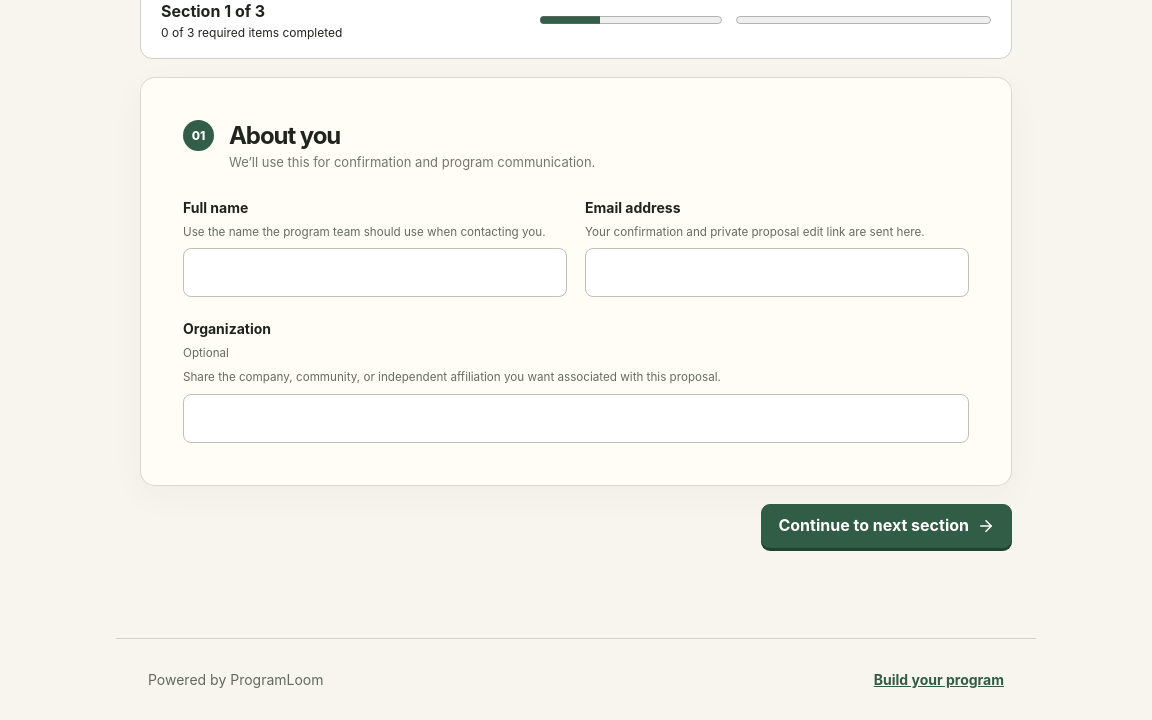
public CFP section progression › blocks the next section until current required values pass server-equivalent validation
The width and height of the screenshot is (1152, 720).
(page scrolled)
Expected: the heading "About you" is shown, x1=229 y1=121 x2=340 y2=150
Expected: the text "Section 1 of 3" is shown, x1=161 y1=1 x2=265 y2=21
Click the button "Continue to next section" at [887, 526], box x1=761 y1=504 x2=1012 y2=548
(page scrolled)
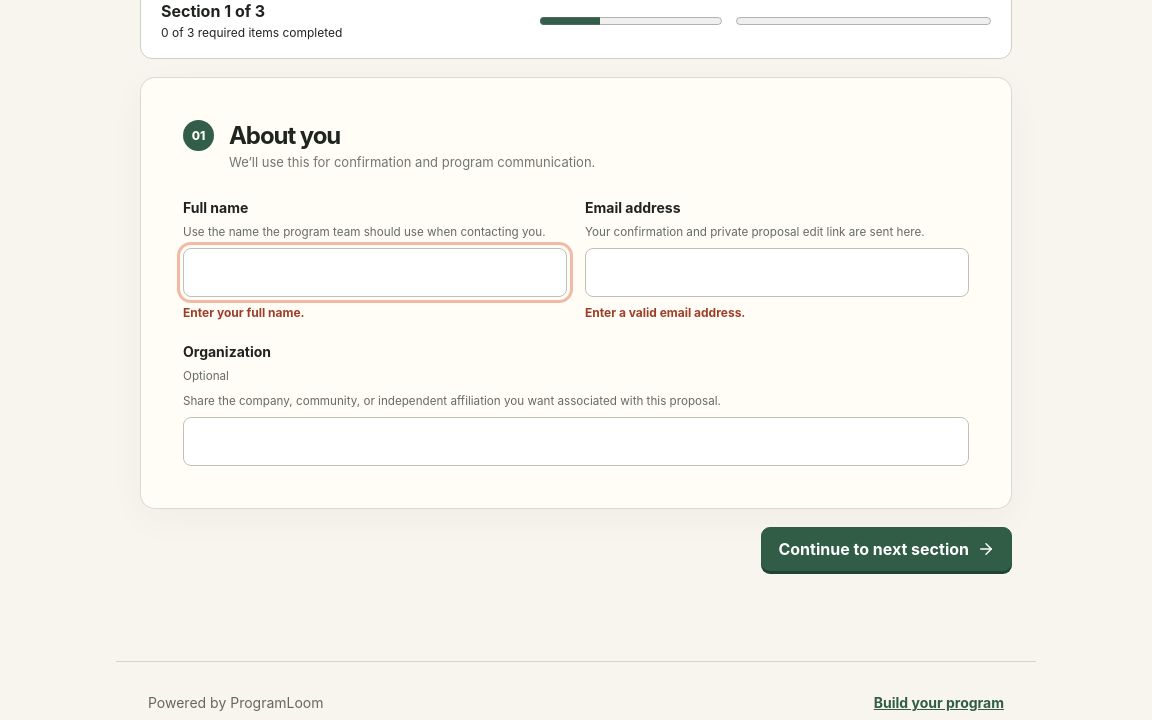
Expected: the heading "About you" is shown, x1=229 y1=121 x2=340 y2=150
Type "Riley Morgan" into the field labelled "Full name" at [375, 273], box x1=183 y1=248 x2=567 y2=298
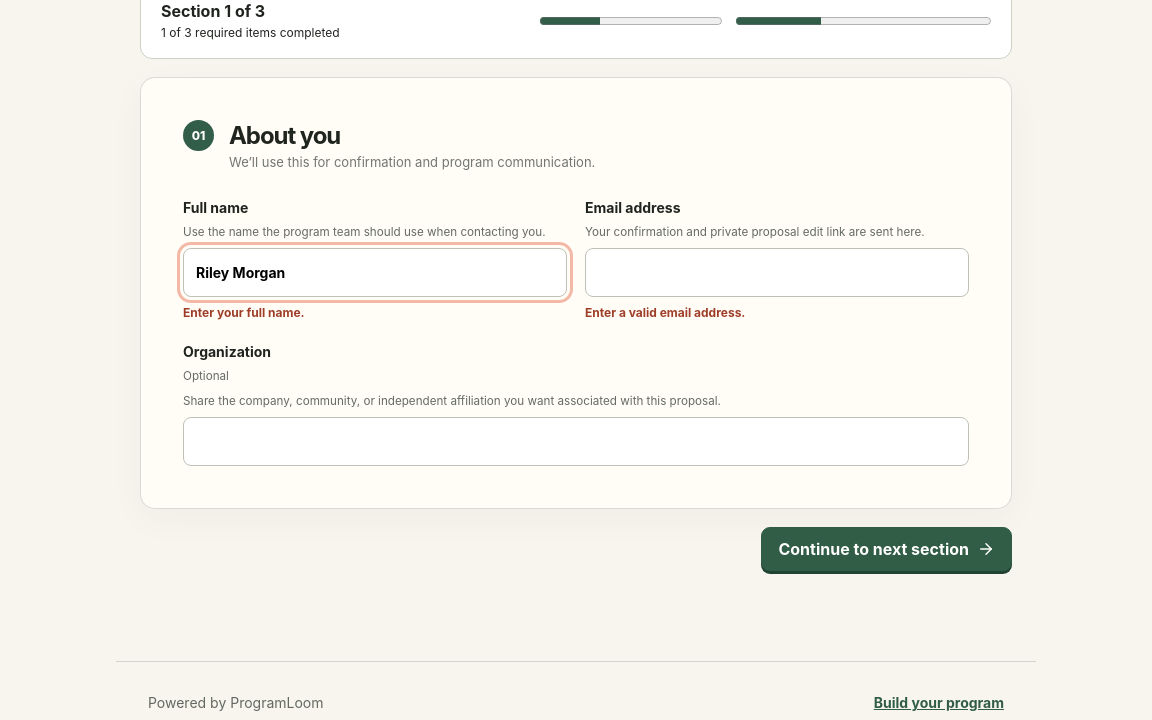
Type "riley@example.com" into the field labelled "Email address" at [777, 273], box x1=585 y1=248 x2=969 y2=298
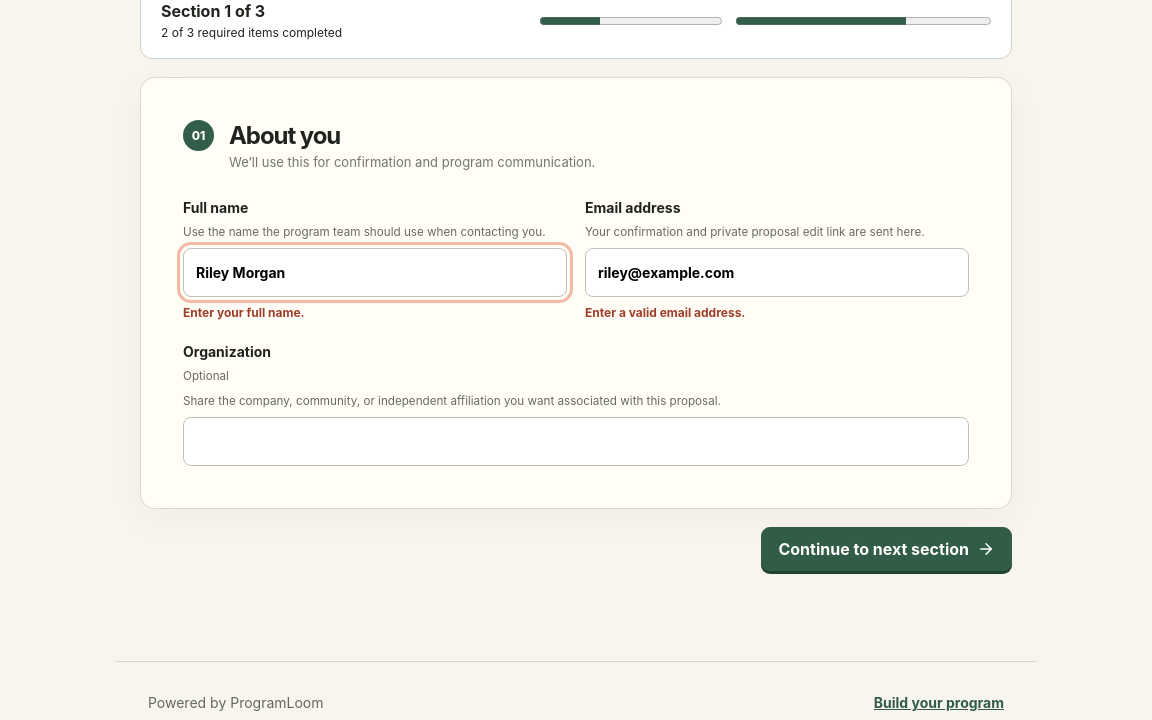
Click the button "Continue to next section" at [887, 549], box x1=761 y1=527 x2=1012 y2=571
(page scrolled)
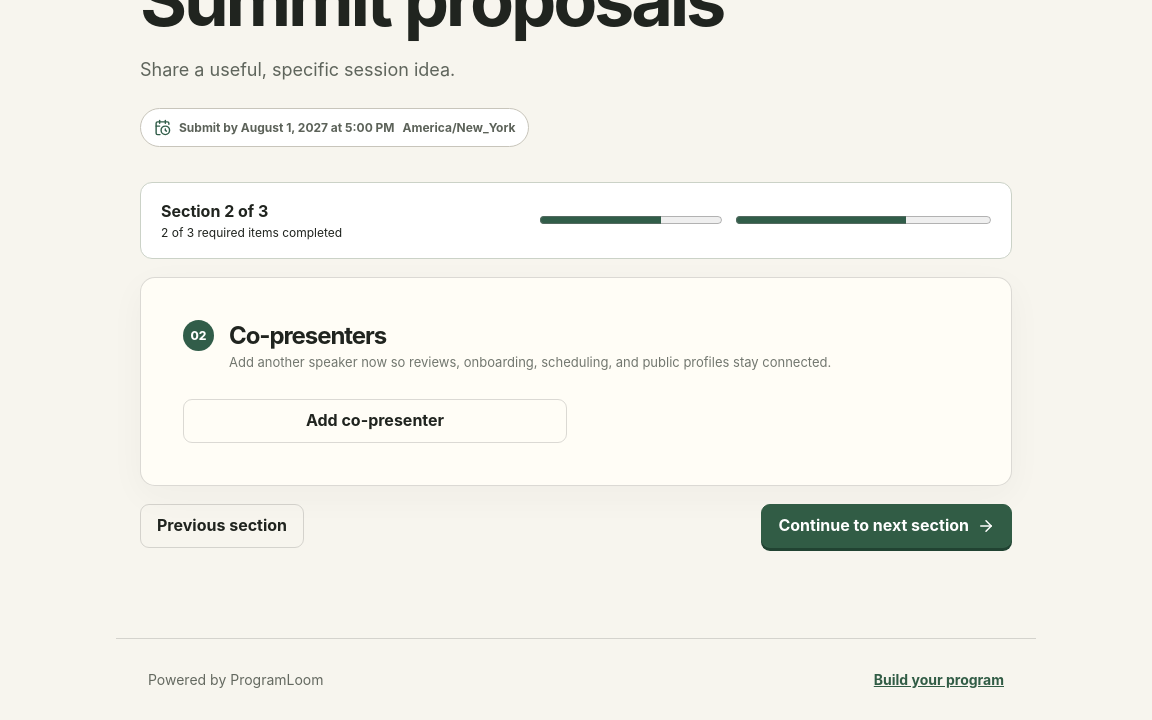
Now the heading "Co-presenters" is shown, box x1=229 y1=321 x2=386 y2=350
Now the text "Section 2 of 3" is shown, box x1=161 y1=201 x2=268 y2=221
Click the button "Continue to next section" at [887, 526], box x1=761 y1=504 x2=1012 y2=548
(page scrolled)
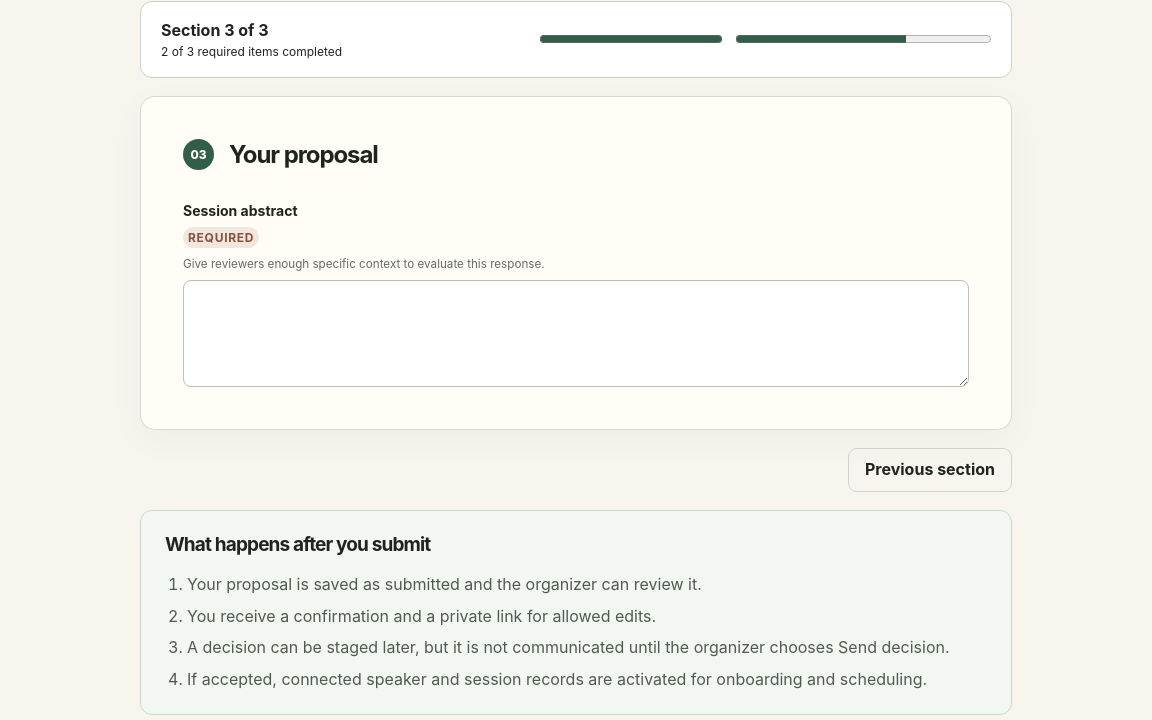
Now the heading "Your proposal" is shown, box x1=229 y1=140 x2=378 y2=169
Now the text "Section 3 of 3" is shown, box x1=161 y1=20 x2=269 y2=40
Now the text "Give reviewers enough specific context" is shown, box x1=183 y1=257 x2=545 y2=271
